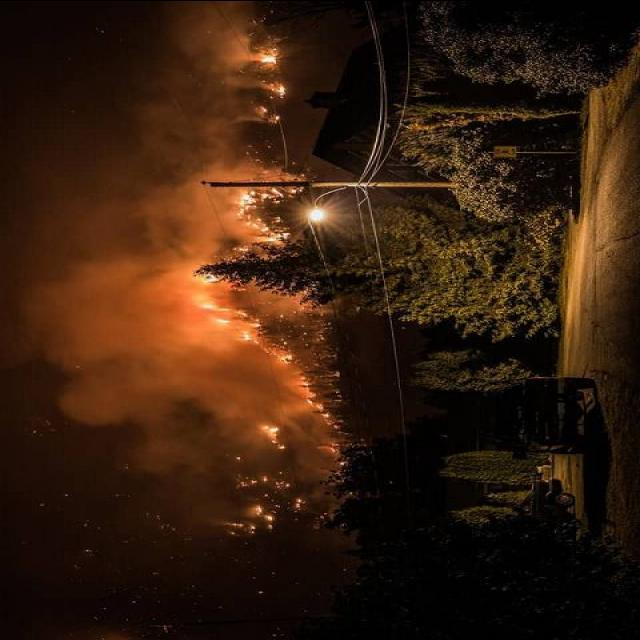Fire: (186, 191, 326, 440), (243, 28, 290, 124)
